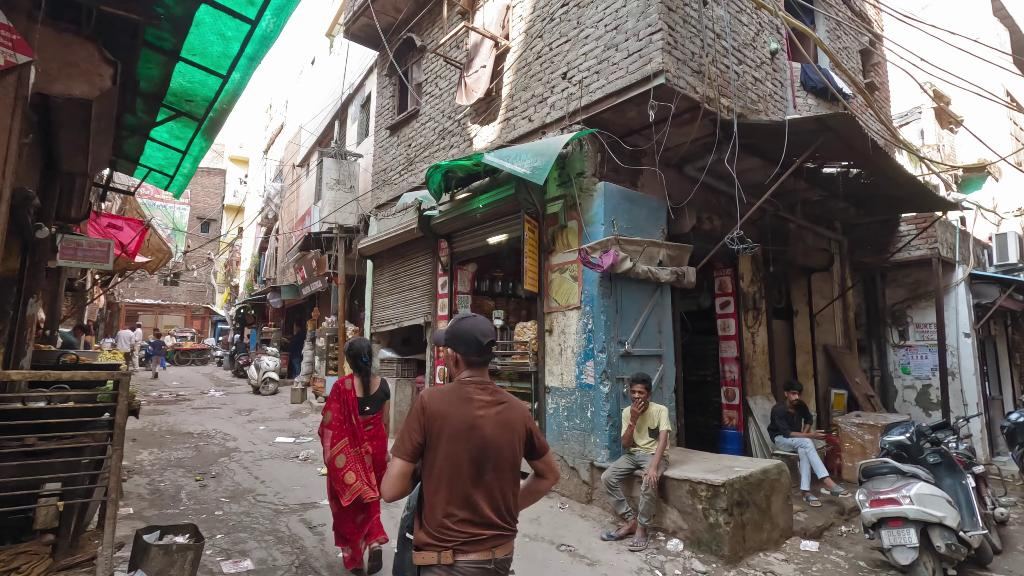garbage: (272, 431, 325, 450), (219, 556, 265, 576), (663, 536, 691, 559), (799, 535, 823, 553)
